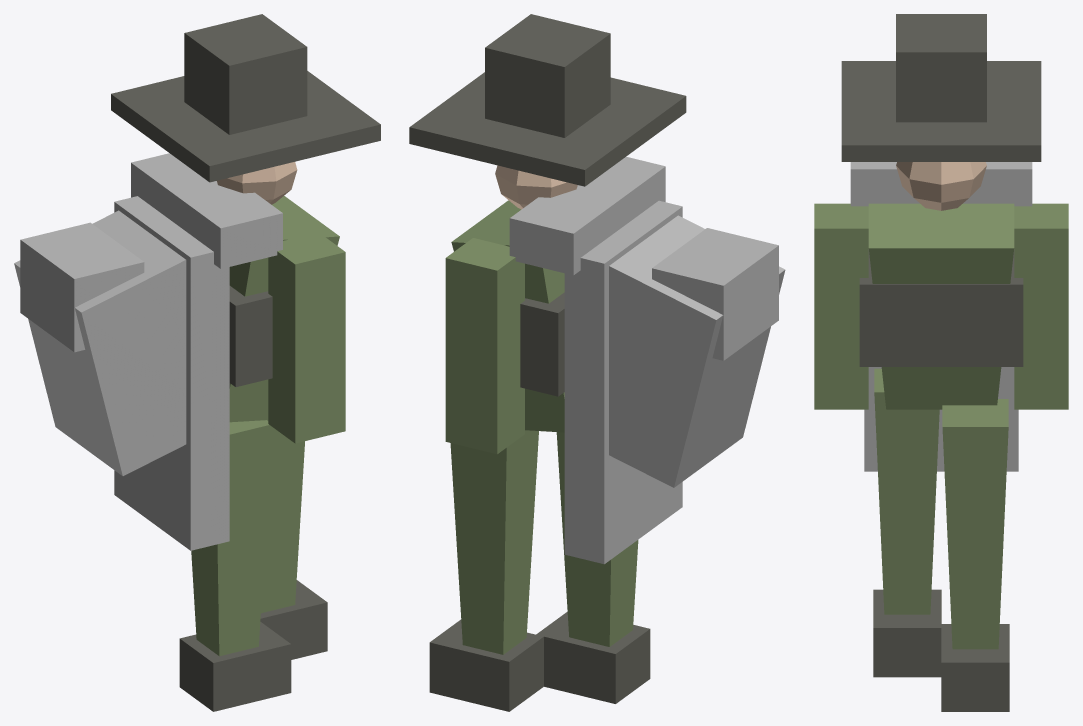
Rendered from unit_sniper.glb.
The picture shows the model from 3 angles, left to right: view 1: azimuth 30°, elevation 25°; view 2: azimuth 150°, elevation 25°; view 3: azimuth 270°, elevation 25°; orthographic projection. The views are drawn at different scales.
Parts seen in each view (by area): view 1: trim_upper_Sniper, accent_upper_Sniper, Sniper, upper_Sniper, accent_Sniper, skin_upper_Sniper; view 2: trim_upper_Sniper, accent_upper_Sniper, Sniper, upper_Sniper, accent_Sniper, skin_upper_Sniper; view 3: Sniper, accent_upper_Sniper, upper_Sniper, accent_Sniper, trim_upper_Sniper, skin_upper_Sniper.
Part boxes in pixels (x1,y1,x2,y2): trim_upper_Sniper: [14, 153, 282, 550]; accent_upper_Sniper: [111, 14, 380, 386]; Sniper: [191, 196, 339, 656]; upper_Sniper: [268, 232, 345, 443]; accent_Sniper: [179, 580, 327, 711]; skin_upper_Sniper: [217, 162, 297, 204]; trim_upper_Sniper: [509, 156, 785, 564]; accent_upper_Sniper: [409, 14, 686, 396]; Sniper: [450, 200, 638, 654]; upper_Sniper: [445, 238, 524, 454]; accent_Sniper: [429, 611, 650, 711]; skin_upper_Sniper: [495, 165, 577, 209]; Sniper: [868, 203, 1014, 649]; accent_upper_Sniper: [841, 14, 1041, 366]; upper_Sniper: [814, 203, 1068, 409]; accent_Sniper: [873, 589, 1009, 711]; trim_upper_Sniper: [850, 162, 1032, 471]; skin_upper_Sniper: [896, 162, 986, 210].
Size of the model in its own units: 0.73 by 1.55 by 0.56.
